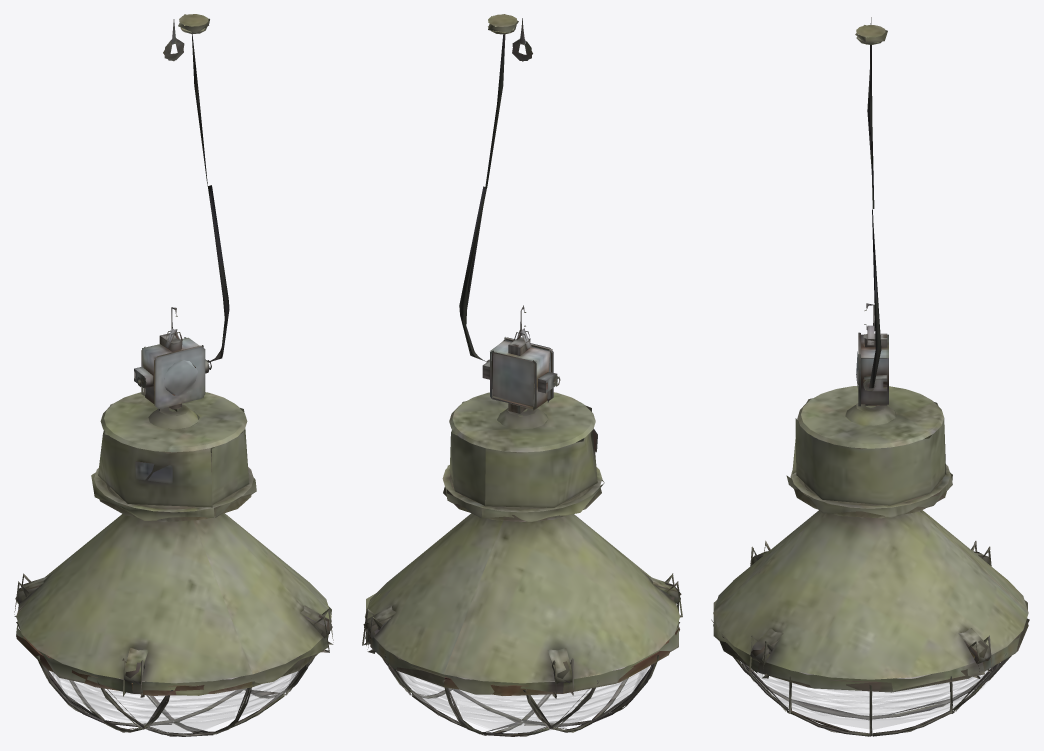
Rendered from hanging_industrial_lamp.glb.
3 views of the same model, side by side, from view 1: azimuth 30°, elevation 25°; view 2: azimuth 150°, elevation 25°; view 3: azimuth 270°, elevation 25° (orthographic).
Visible parts, largest first — view 1: hanging_industrial_lamp; view 2: hanging_industrial_lamp; view 3: hanging_industrial_lamp.
Boxes of the visible parts, x1,y1,x2,y2 form: hanging_industrial_lamp: (14, 14, 333, 736); hanging_industrial_lamp: (362, 14, 682, 736); hanging_industrial_lamp: (711, 17, 1029, 736).
Bounding box in the file's own units: 0.5538 × 1.36 × 0.5552.
Materials: 2 (1 with a texture image).
